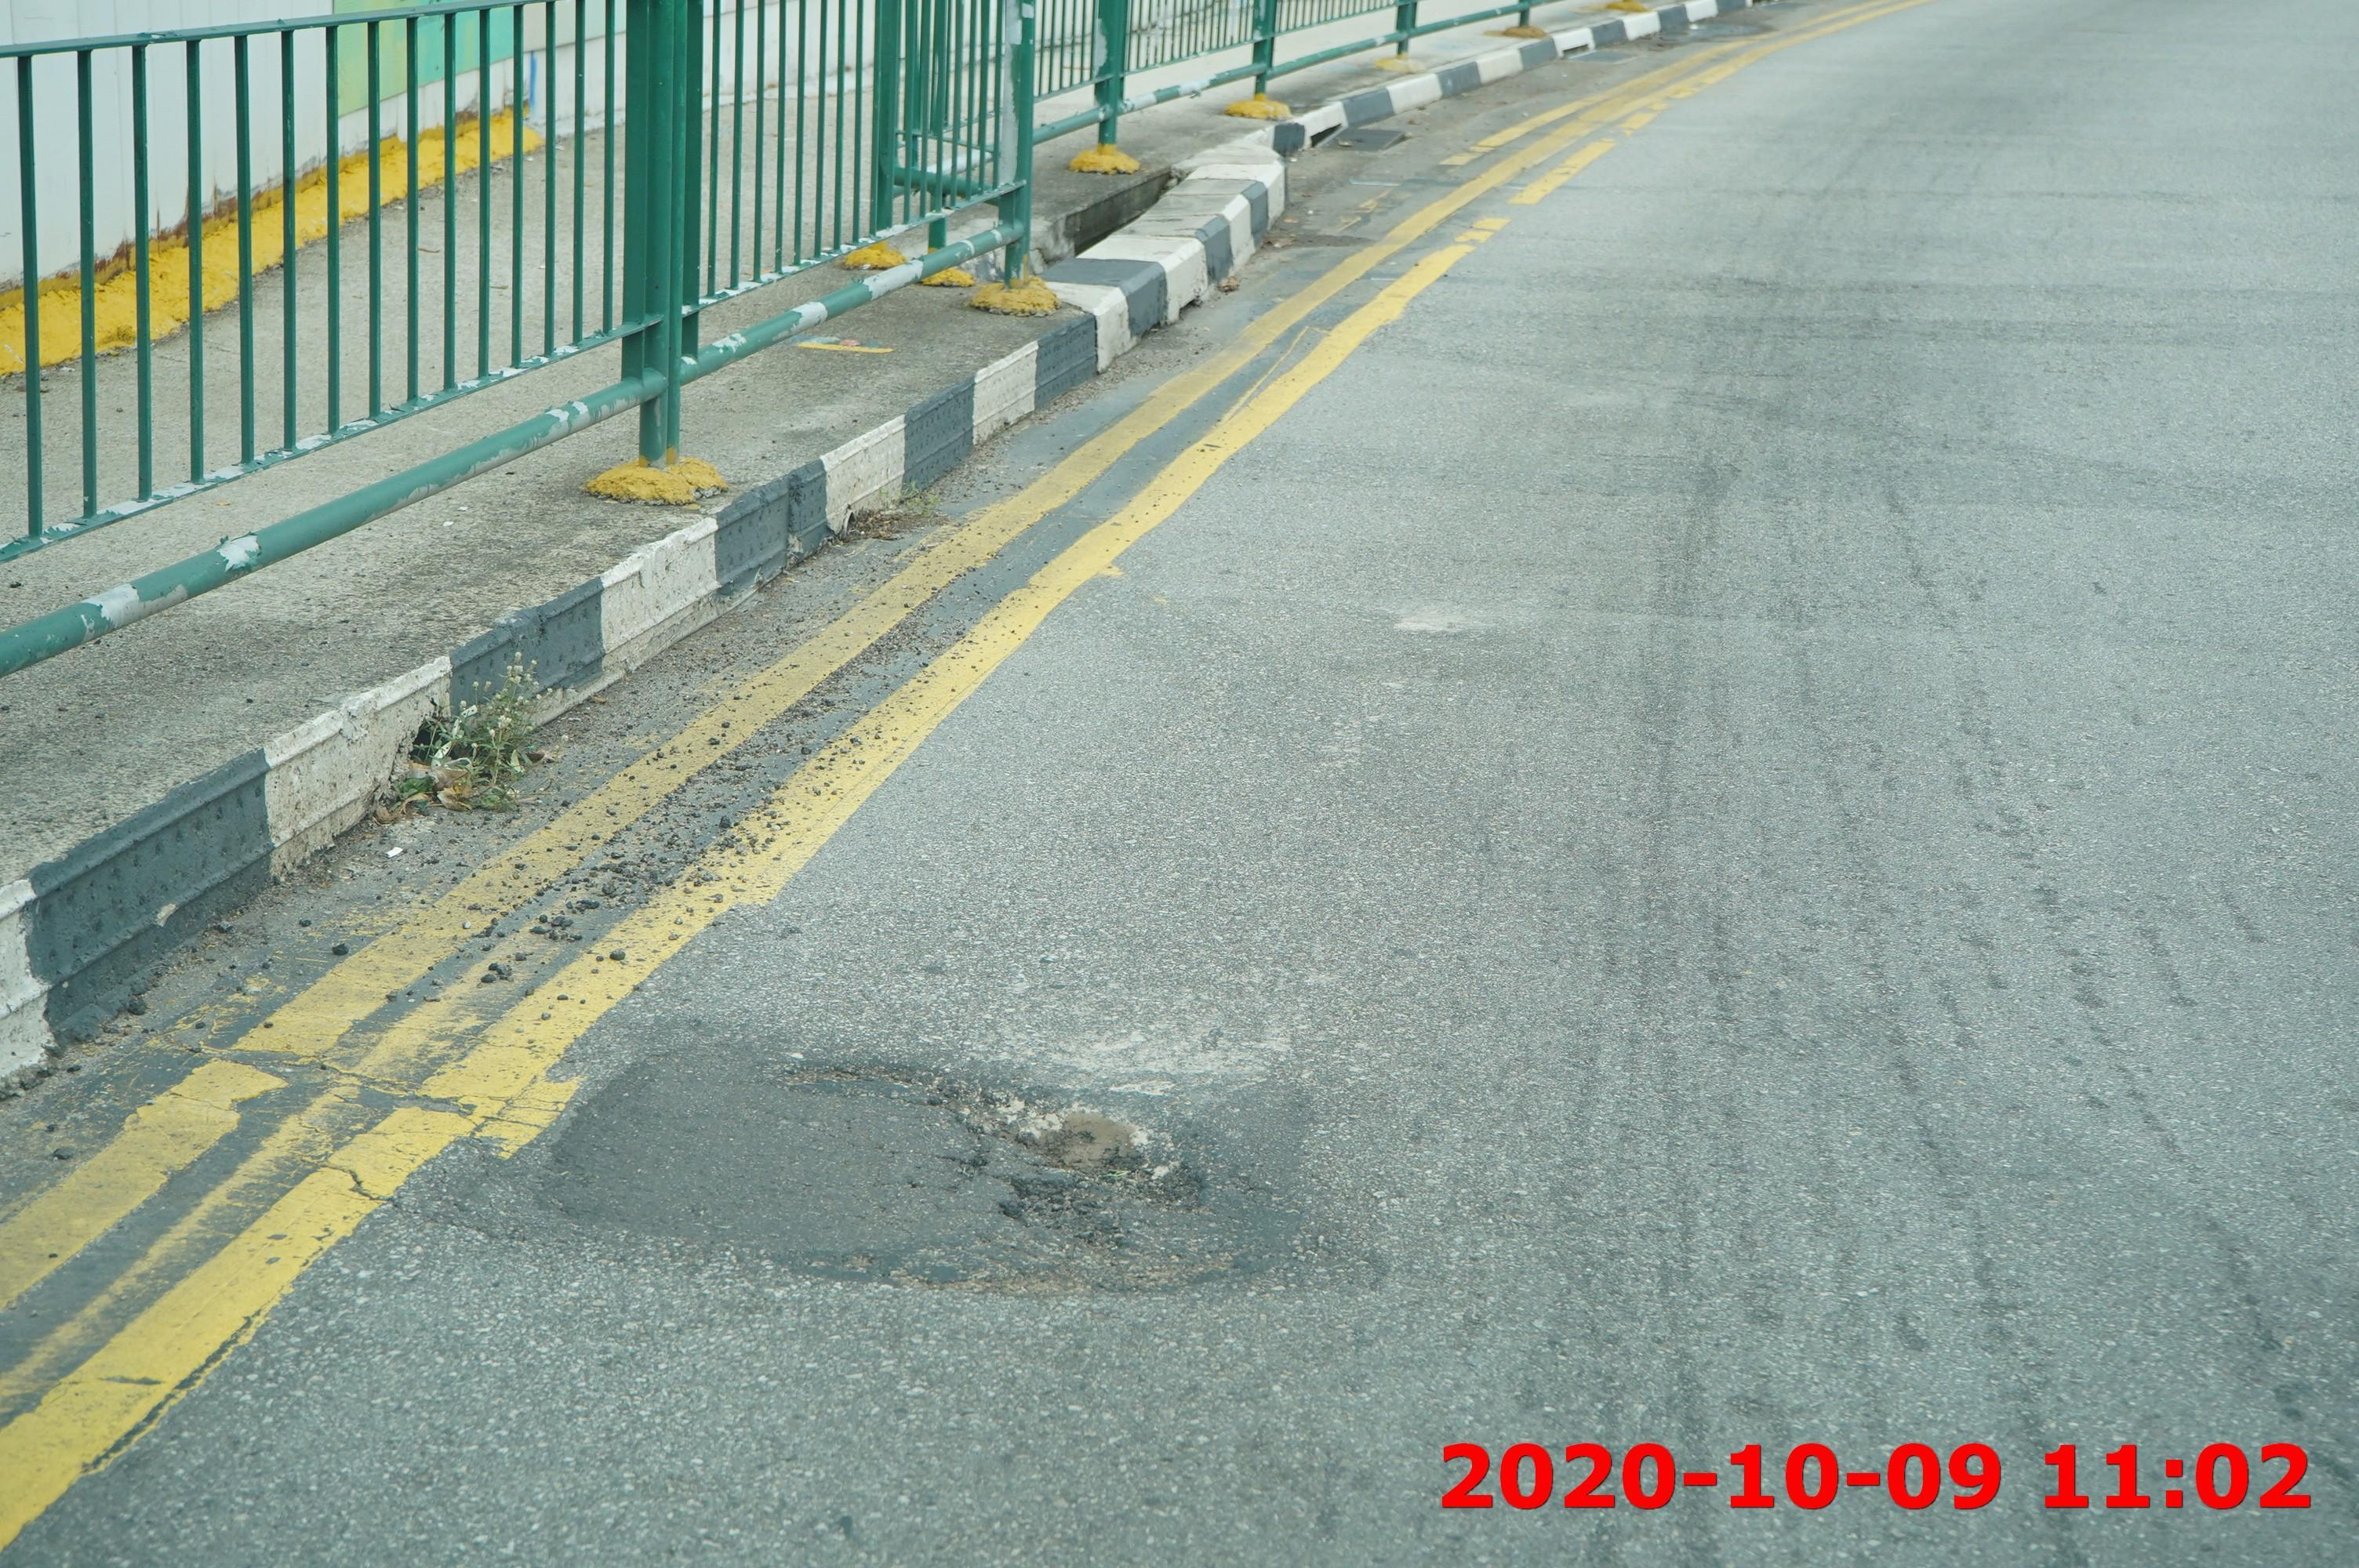peel off with cracks: (912, 1055, 1232, 1244)
